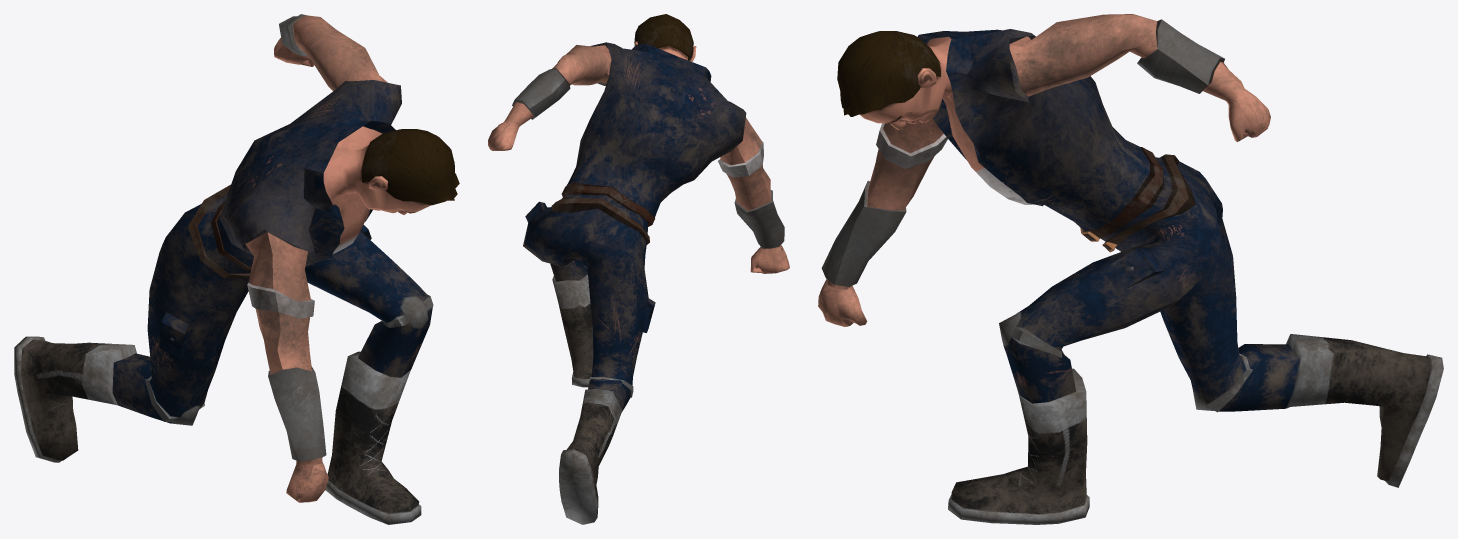
Rendered from Anim_especial_jugador.0031.obj.
The picture shows the model from 3 angles, left to right: view 1: azimuth 30°, elevation 25°; view 2: azimuth 150°, elevation 25°; view 3: azimuth 270°, elevation 25°; orthographic projection. The views are drawn at different scales.
Visible parts, largest first — view 1: polySurface1; view 2: polySurface1; view 3: polySurface1.
Part boxes in pixels (box(x1,y1,x2,y2)): polySurface1: box(14, 14, 459, 524); polySurface1: box(488, 14, 789, 524); polySurface1: box(818, 14, 1443, 524).
Size of the model in its own units: 3.43 by 6.91 by 7.17.
